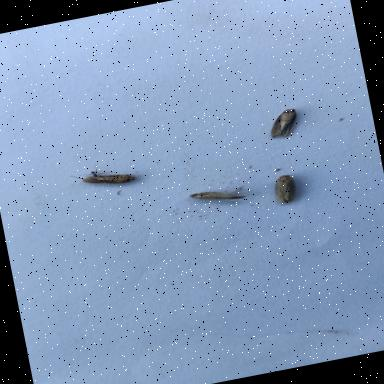pbw: (67, 154, 149, 198), (179, 180, 260, 216), (250, 104, 312, 147), (263, 170, 308, 214)
